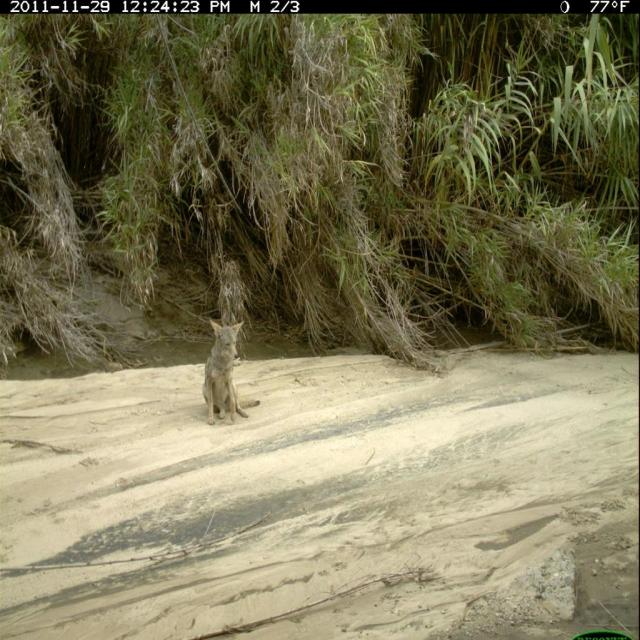coyote: (194, 311, 265, 434)
